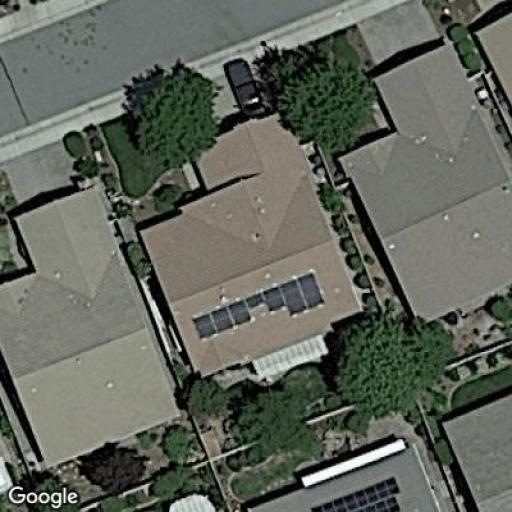solar-panel: (189, 270, 324, 339), (308, 477, 406, 512)
